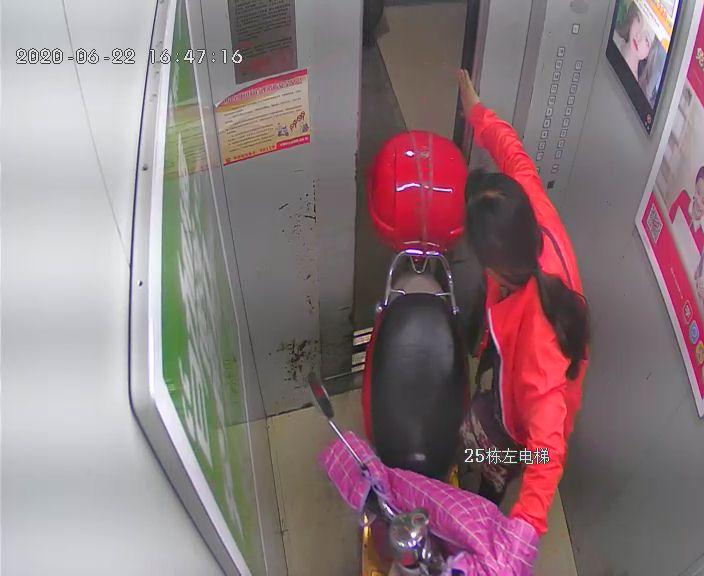Electric-bicycle: (308, 132, 515, 573)
